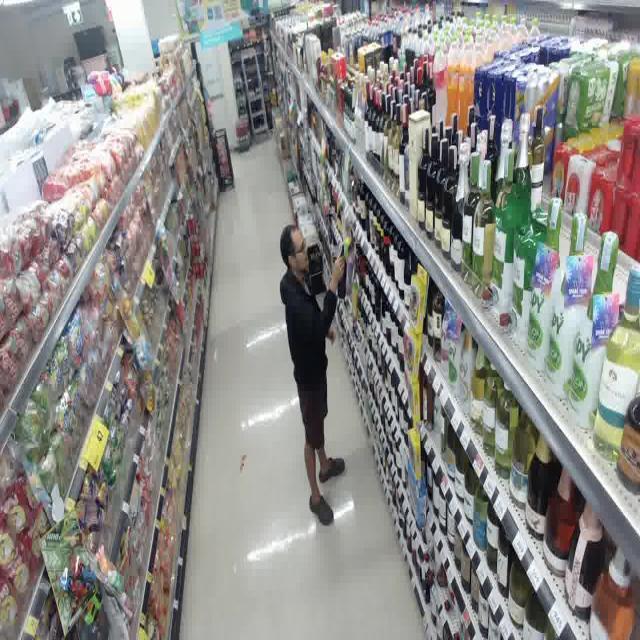pickup: (266, 189, 361, 540)
